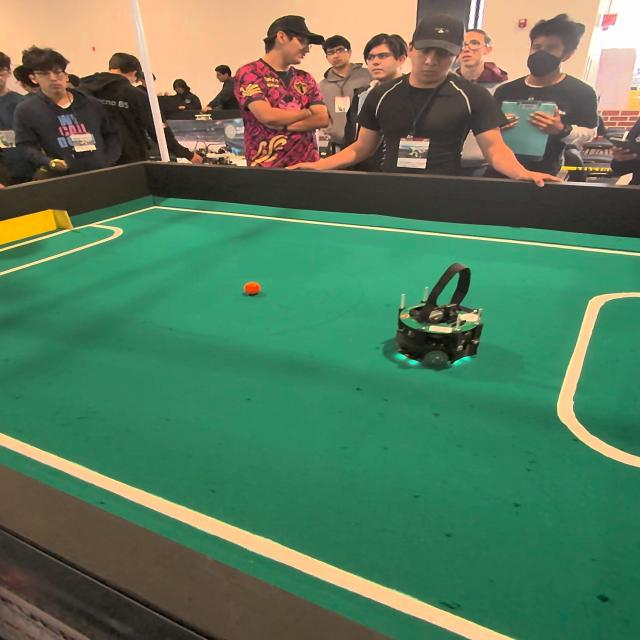Robot: (386, 255, 486, 377)
pelota: (239, 280, 266, 300)
